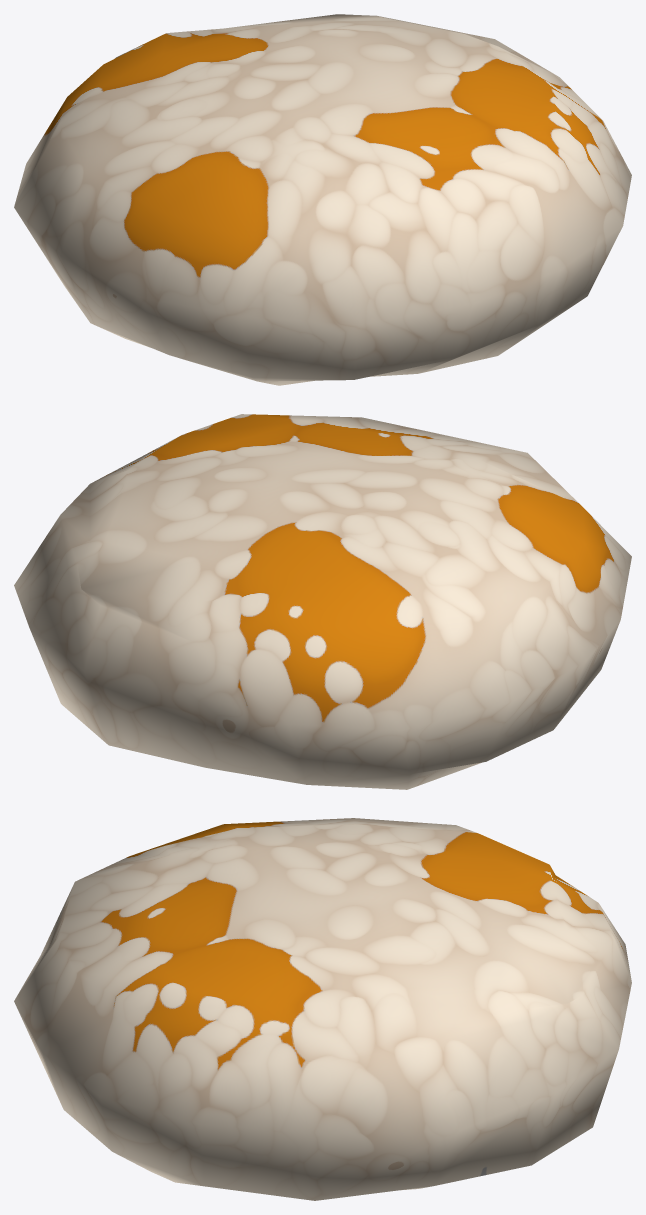
File: food_003.fbx
3 views of the same model, one above another, from view 1: azimuth 30°, elevation 25°; view 2: azimuth 150°, elevation 25°; view 3: azimuth 270°, elevation 25° (orthographic). The views are drawn at different scales.
Visible parts, largest first — view 1: food_003_low; view 2: food_003_low; view 3: food_003_low.
Boxes of the visible parts, bbox=[...] form: food_003_low: bbox=[14, 14, 631, 385]; food_003_low: bbox=[14, 414, 631, 789]; food_003_low: bbox=[14, 818, 631, 1200].
Size of the model in its own units: 64.74 by 29.1 by 63.59.
